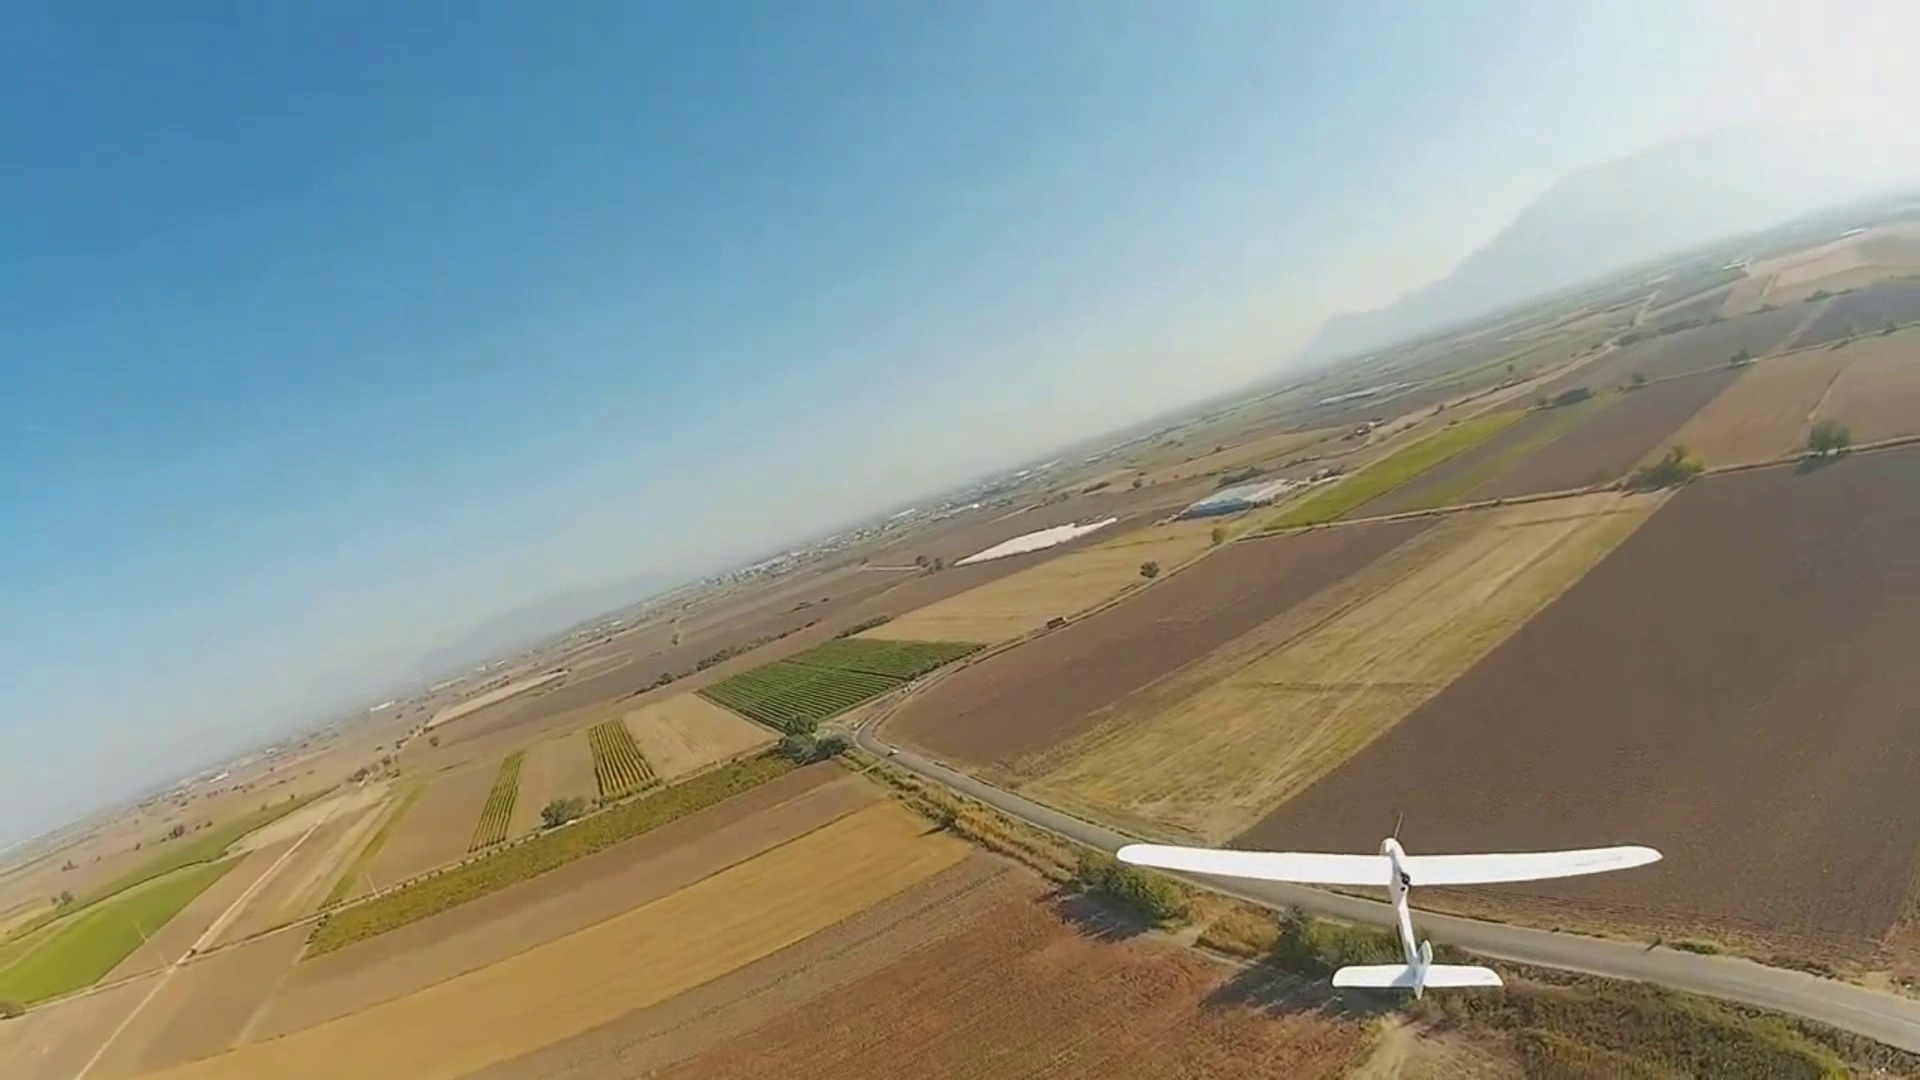airplane: (829, 736, 1663, 1004)
